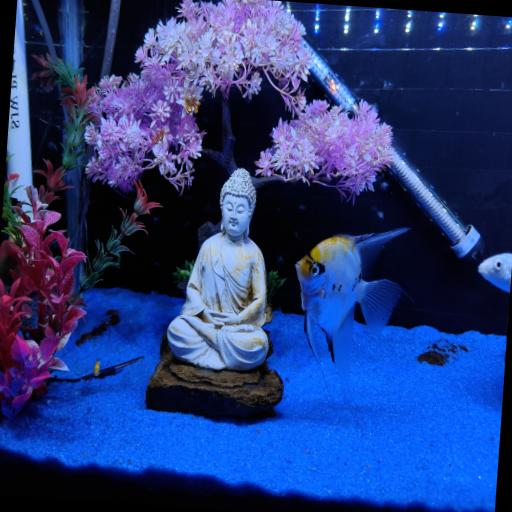Fish: (295, 228, 407, 426), (478, 253, 511, 292), (92, 359, 99, 376)
